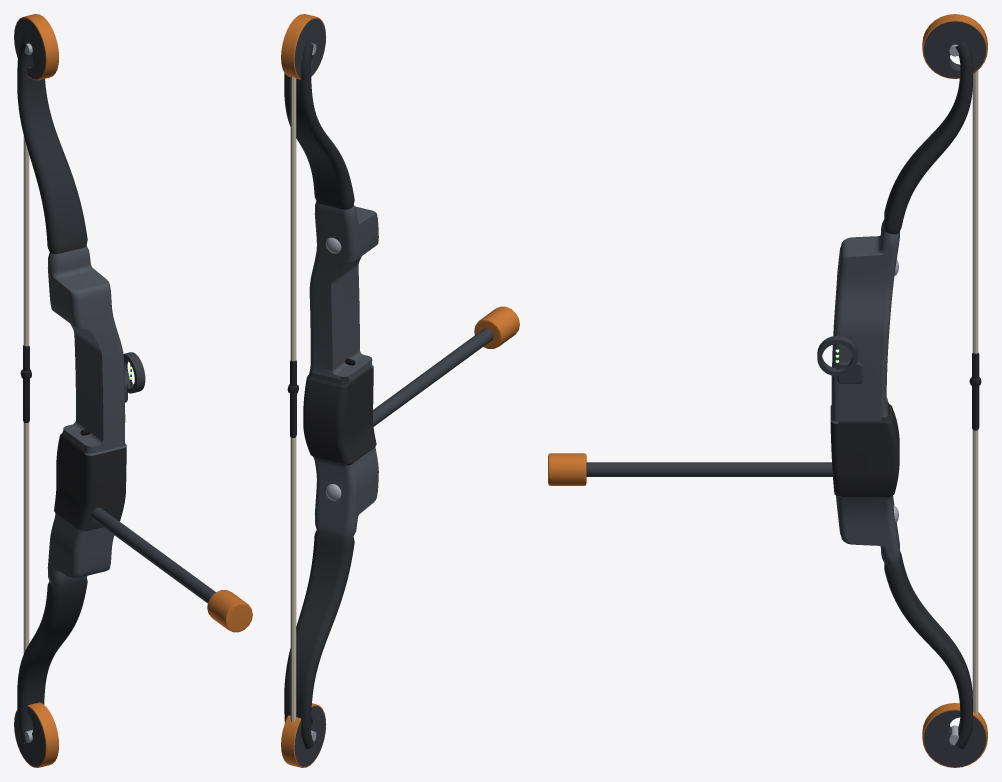
File: w_bow@bow_compound.glb
3 renders of one model, left to right at view 1: azimuth 30°, elevation 25°; view 2: azimuth 150°, elevation 25°; view 3: azimuth 270°, elevation 25°, orthographic.
Visible parts, largest first — view 1: riser_wzA__riser__p4b5159, limb_wzB__wood__p2b2e33, grip_wzB__leather__p2a2b2f, string_wzN__cord__pcfc9bb, stab_wzB__cam__p3a3e46, cam_wzB__cam__p3a3e46, cam_wzN__accent__pc8742f, stab_wzN__accent__pc8742f, sight_wzB__cam__p3a3e46, string_wzN__dark__p24252a; view 2: riser_wzA__riser__p4b5159, limb_wzB__wood__p2b2e33, grip_wzB__leather__p2a2b2f, string_wzN__cord__pcfc9bb, cam_wzB__cam__p3a3e46, stab_wzB__cam__p3a3e46, cam_wzN__accent__pc8742f, stab_wzN__accent__pc8742f, string_wzN__dark__p24252a, bolt_wzN__steel__pa3a9b2; view 3: riser_wzA__riser__p4b5159, limb_wzB__wood__p2b2e33, grip_wzB__leather__p2a2b2f, cam_wzB__cam__p3a3e46, string_wzN__cord__pcfc9bb, stab_wzB__cam__p3a3e46, cam_wzN__accent__pc8742f, stab_wzN__accent__pc8742f, sight_wzB__cam__p3a3e46.
Boxes of the visible parts, bbox=[...] form: riser_wzA__riser__p4b5159: bbox=[47, 246, 126, 585]; limb_wzB__wood__p2b2e33: bbox=[17, 36, 87, 743]; grip_wzB__leather__p2a2b2f: bbox=[54, 432, 126, 530]; string_wzN__cord__pcfc9bb: bbox=[23, 135, 29, 653]; stab_wzB__cam__p3a3e46: bbox=[91, 507, 215, 603]; cam_wzB__cam__p3a3e46: bbox=[14, 18, 45, 766]; cam_wzN__accent__pc8742f: bbox=[14, 14, 59, 767]; stab_wzN__accent__pc8742f: bbox=[207, 590, 252, 632]; sight_wzB__cam__p3a3e46: bbox=[123, 352, 145, 402]; string_wzN__dark__p24252a: bbox=[20, 345, 31, 422]; riser_wzA__riser__p4b5159: bbox=[309, 201, 378, 537]; limb_wzB__wood__p2b2e33: bbox=[284, 42, 354, 749]; grip_wzB__leather__p2a2b2f: bbox=[303, 367, 376, 465]; string_wzN__cord__pcfc9bb: bbox=[290, 84, 296, 713]; cam_wzB__cam__p3a3e46: bbox=[294, 18, 325, 766]; stab_wzB__cam__p3a3e46: bbox=[373, 328, 493, 426]; cam_wzN__accent__pc8742f: bbox=[281, 14, 326, 767]; stab_wzN__accent__pc8742f: bbox=[474, 306, 519, 348]; string_wzN__dark__p24252a: bbox=[287, 360, 298, 437]; bolt_wzN__steel__pa3a9b2: bbox=[325, 237, 341, 500]; riser_wzA__riser__p4b5159: bbox=[830, 219, 899, 564]; limb_wzB__wood__p2b2e33: bbox=[884, 40, 972, 749]; grip_wzB__leather__p2a2b2f: bbox=[830, 402, 899, 497]; cam_wzB__cam__p3a3e46: bbox=[923, 21, 986, 766]; string_wzN__cord__pcfc9bb: bbox=[972, 77, 978, 706]; stab_wzB__cam__p3a3e46: bbox=[586, 462, 832, 476]; cam_wzN__accent__pc8742f: bbox=[922, 14, 987, 767]; stab_wzN__accent__pc8742f: bbox=[548, 453, 586, 485]; sight_wzB__cam__p3a3e46: bbox=[817, 335, 862, 383].
Size of the model in its own units: 0.0715 by 0.856 by 0.456.
